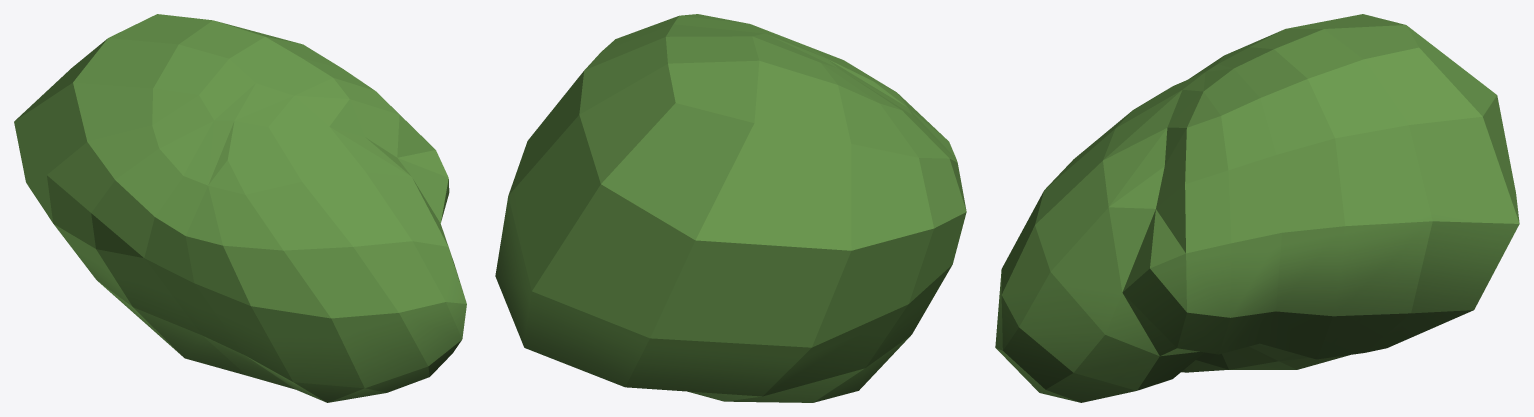
Rendered from Birch-Bush-06.fbx.
3 renders of one model, left to right at view 1: azimuth 30°, elevation 25°; view 2: azimuth 150°, elevation 25°; view 3: azimuth 270°, elevation 25°, orthographic. The views are drawn at different scales.
Parts seen in each view (by area): view 1: Birch-Bush-06; view 2: Birch-Bush-06; view 3: Birch-Bush-06.
Part boxes in pixels (x1,y1,x2,y2): Birch-Bush-06: [14, 14, 466, 402]; Birch-Bush-06: [495, 14, 966, 402]; Birch-Bush-06: [995, 14, 1519, 402].
Size of the model in its own units: 426 by 351 by 510.
Materials: 1 (1 with a texture image).
